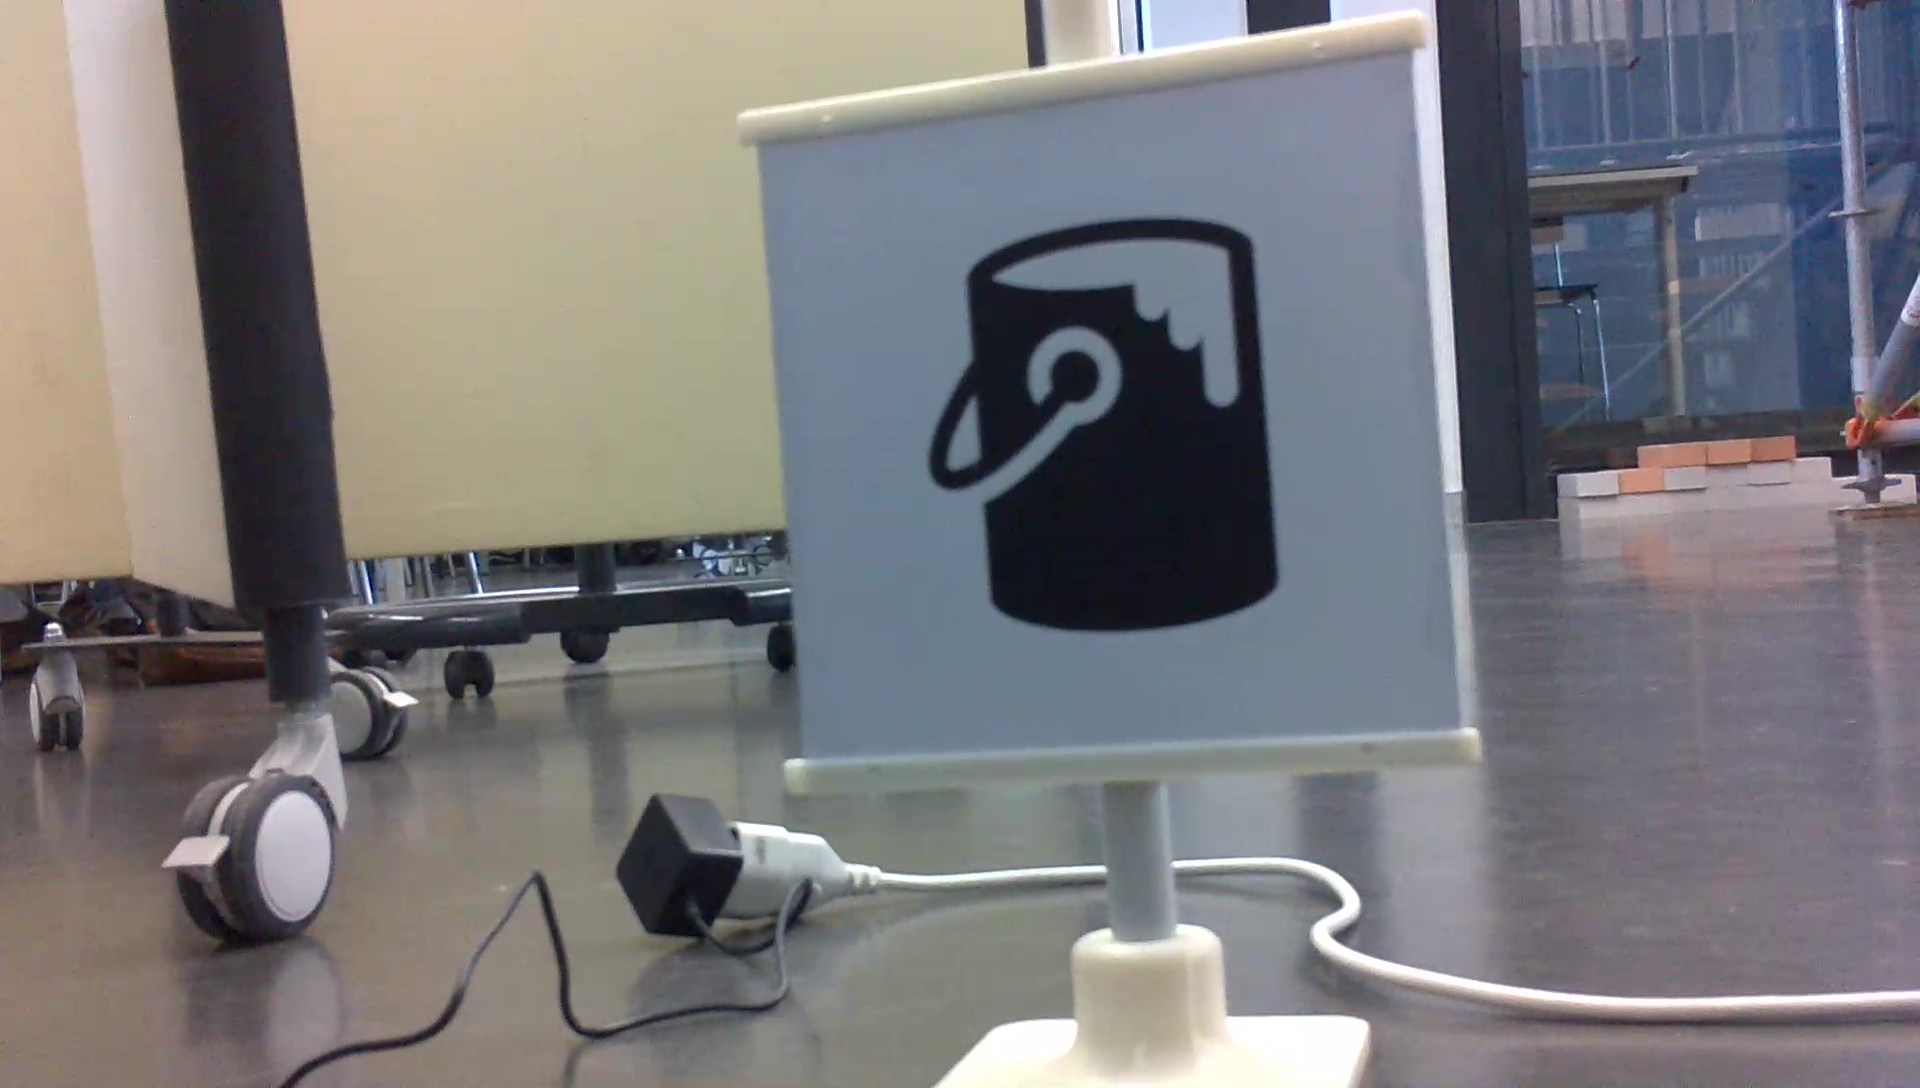bucket: (918, 207, 1298, 650)
